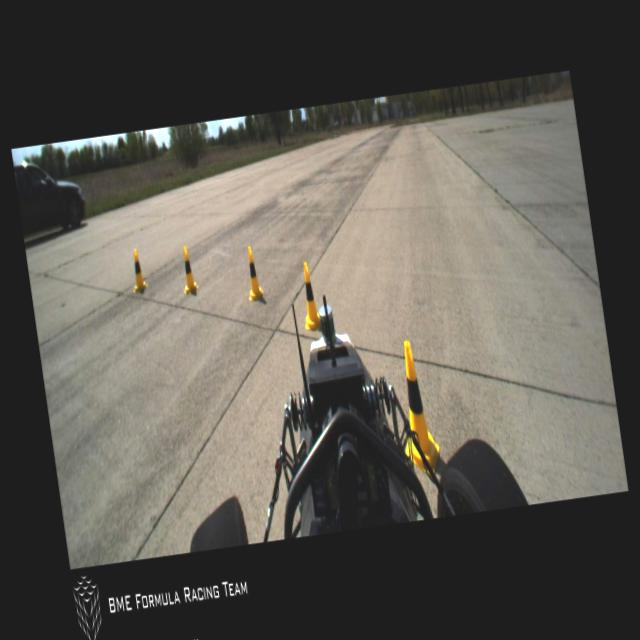yellow_cone: (390, 340, 443, 482), (296, 262, 324, 331), (242, 244, 266, 304), (128, 248, 148, 294), (180, 246, 198, 295)
